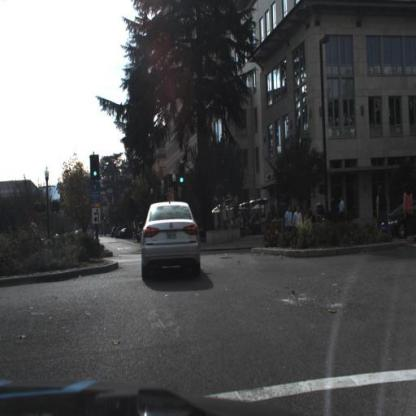car: (140, 197, 203, 279)
pedestrian: (378, 185, 391, 240), (404, 186, 415, 239), (294, 206, 303, 235), (285, 207, 294, 235), (331, 194, 339, 223), (339, 194, 345, 229)
trafficLight: (93, 158, 101, 181)
trafficLight-Green: (181, 167, 186, 188)
